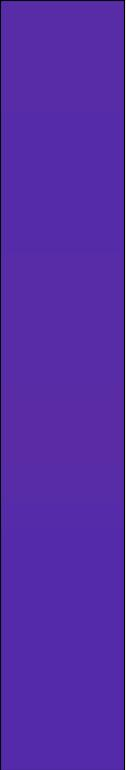safe: (9, 8, 113, 756)
